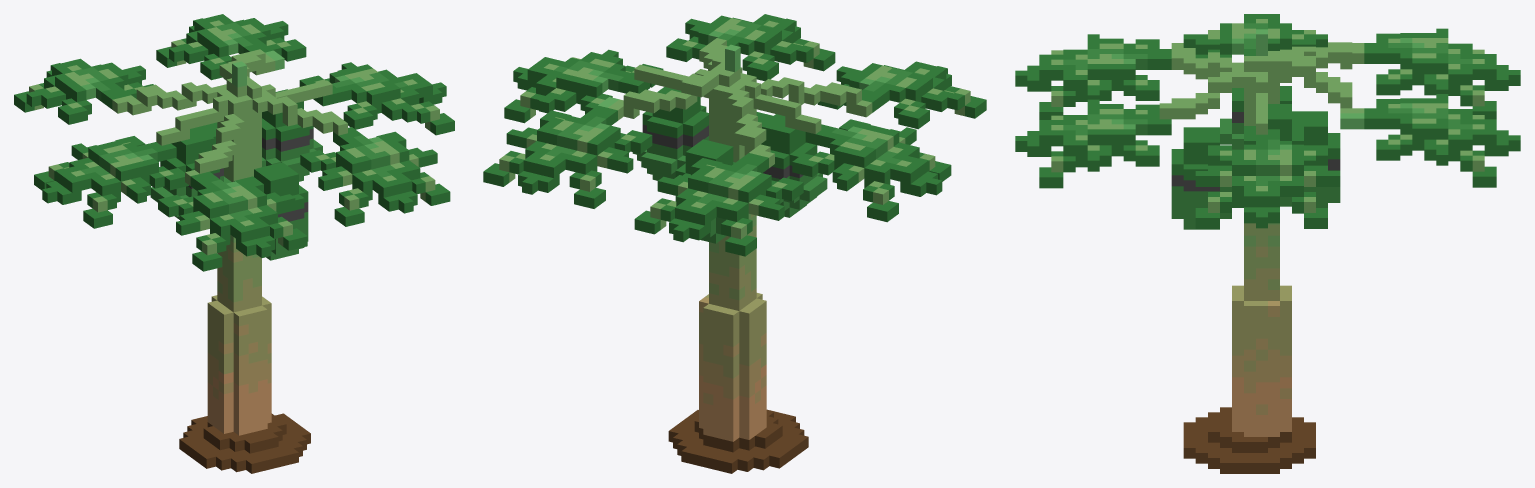
File: 2_0 mamao.obj
3 views of the same model, side by side, from view 1: azimuth 30°, elevation 25°; view 2: azimuth 150°, elevation 25°; view 3: azimuth 270°, elevation 25° (orthographic). The views are drawn at different scales.
Size of the model in its own units: 4.2 by 3.8 by 4.2.
1 material, 1 textured.
